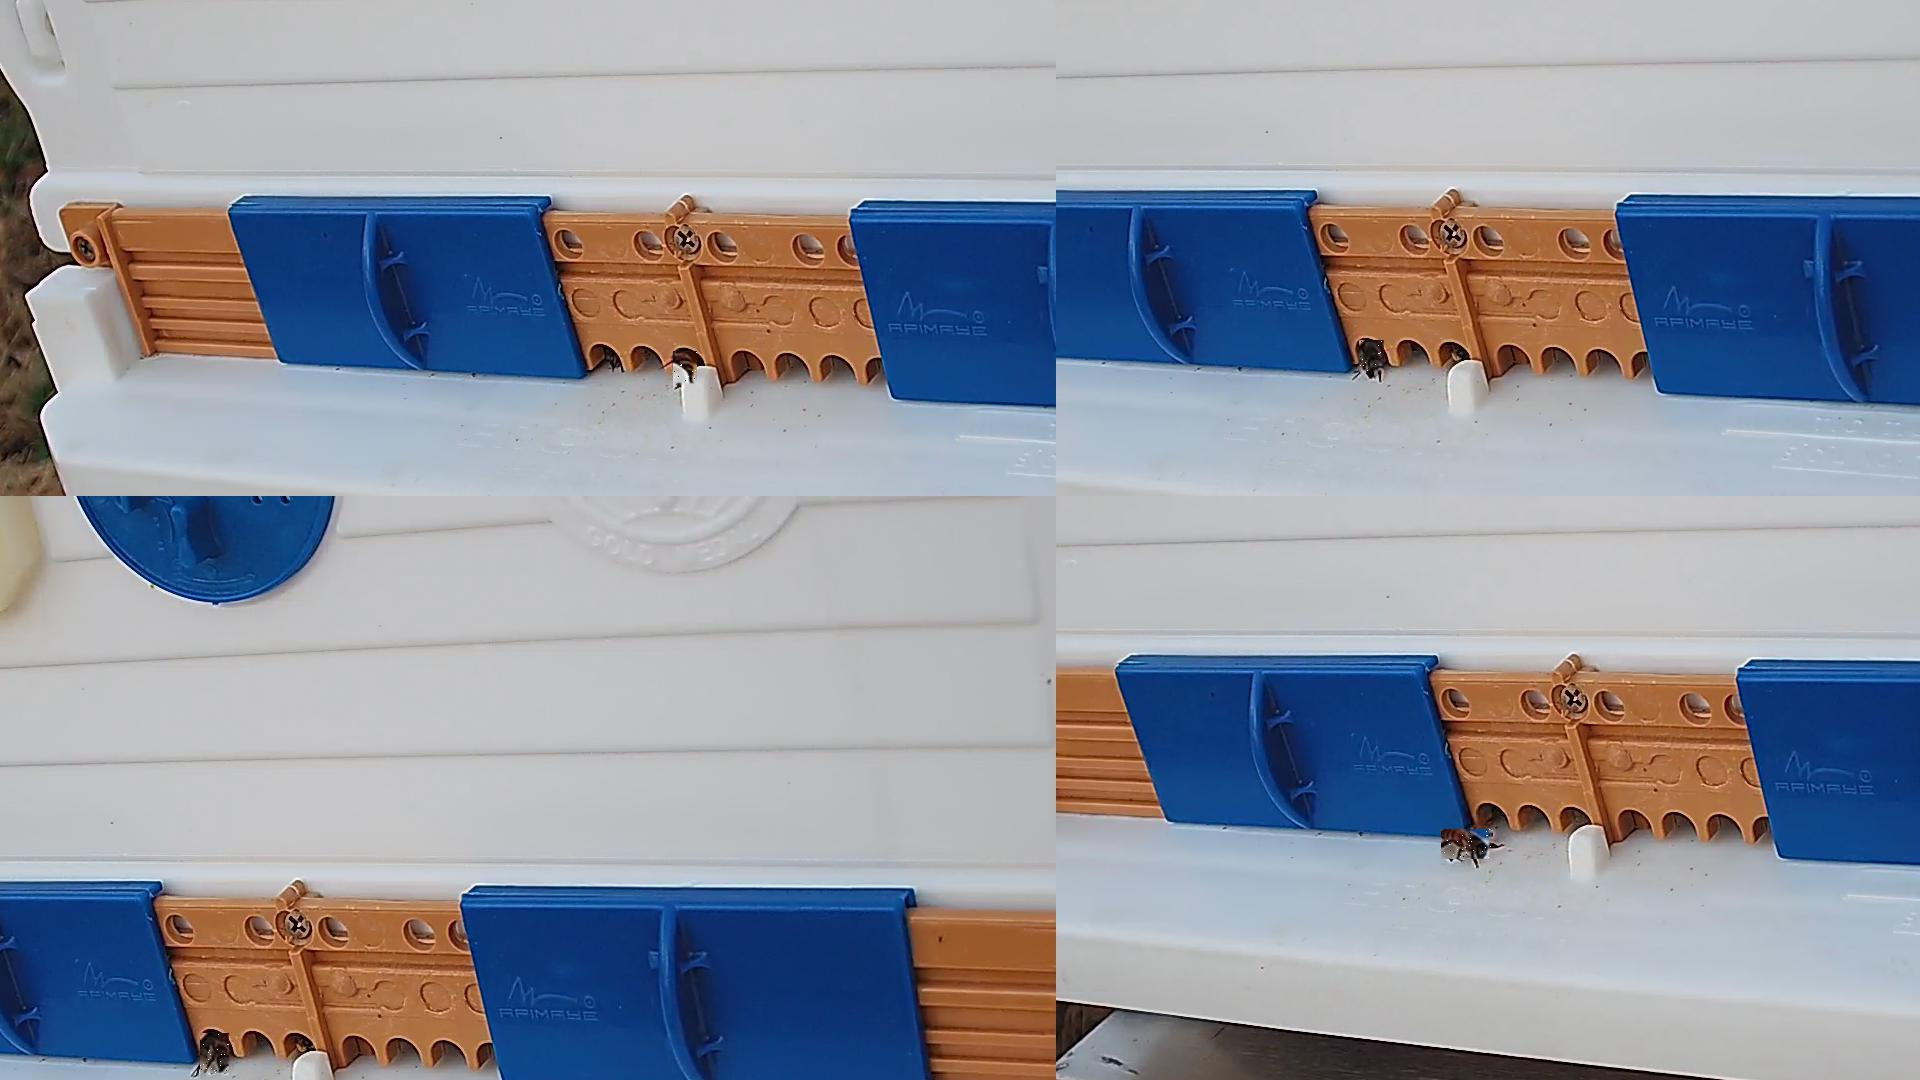bee: (1443, 829, 1494, 860), (200, 1033, 231, 1073), (1360, 342, 1385, 375)
pollenbee: (673, 352, 698, 388)
